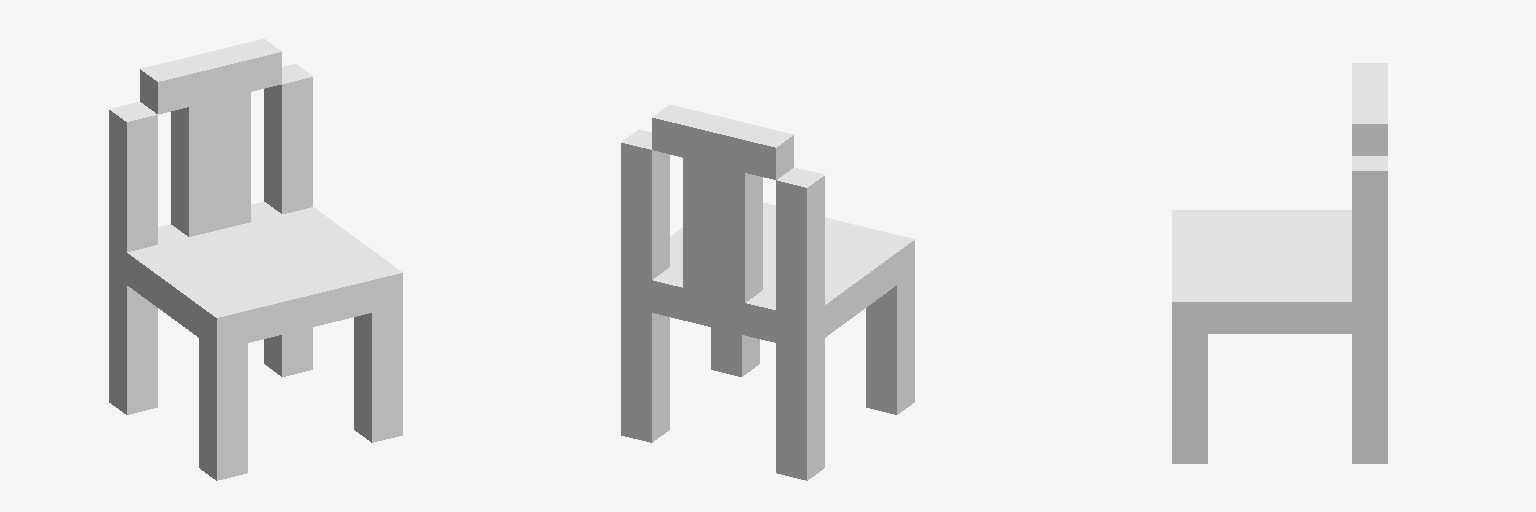
Rendered from glue_chair.obj.
3 renders of one model, left to right at view 1: azimuth 30°, elevation 25°; view 2: azimuth 150°, elevation 25°; view 3: azimuth 270°, elevation 25°, orthographic.
Visible parts, largest first — view 1: object 1; view 2: object 1; view 3: object 1.
Boxes of the visible parts, x1=… form: object 1: x1=109, y1=39, x2=402, y2=480; object 1: x1=621, y1=105, x2=914, y2=480; object 1: x1=1172, y1=63, x2=1387, y2=463.
Size of the model in its own units: 0.6 by 1 by 0.6.